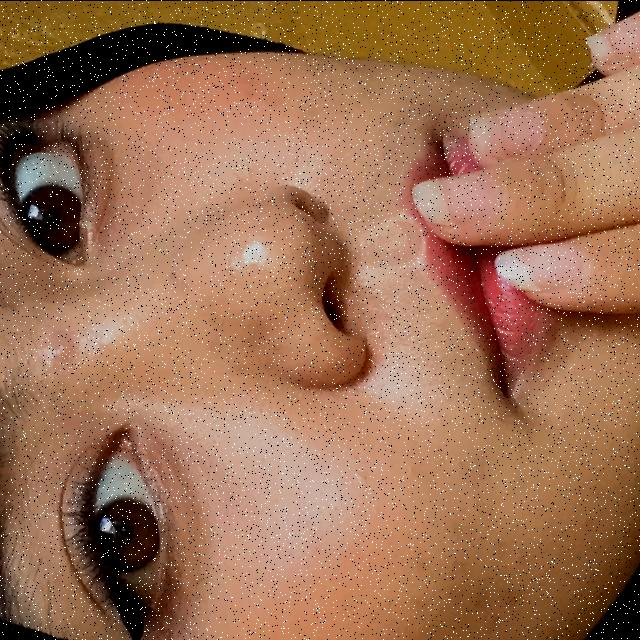ganteng: (396, 0, 640, 480)
